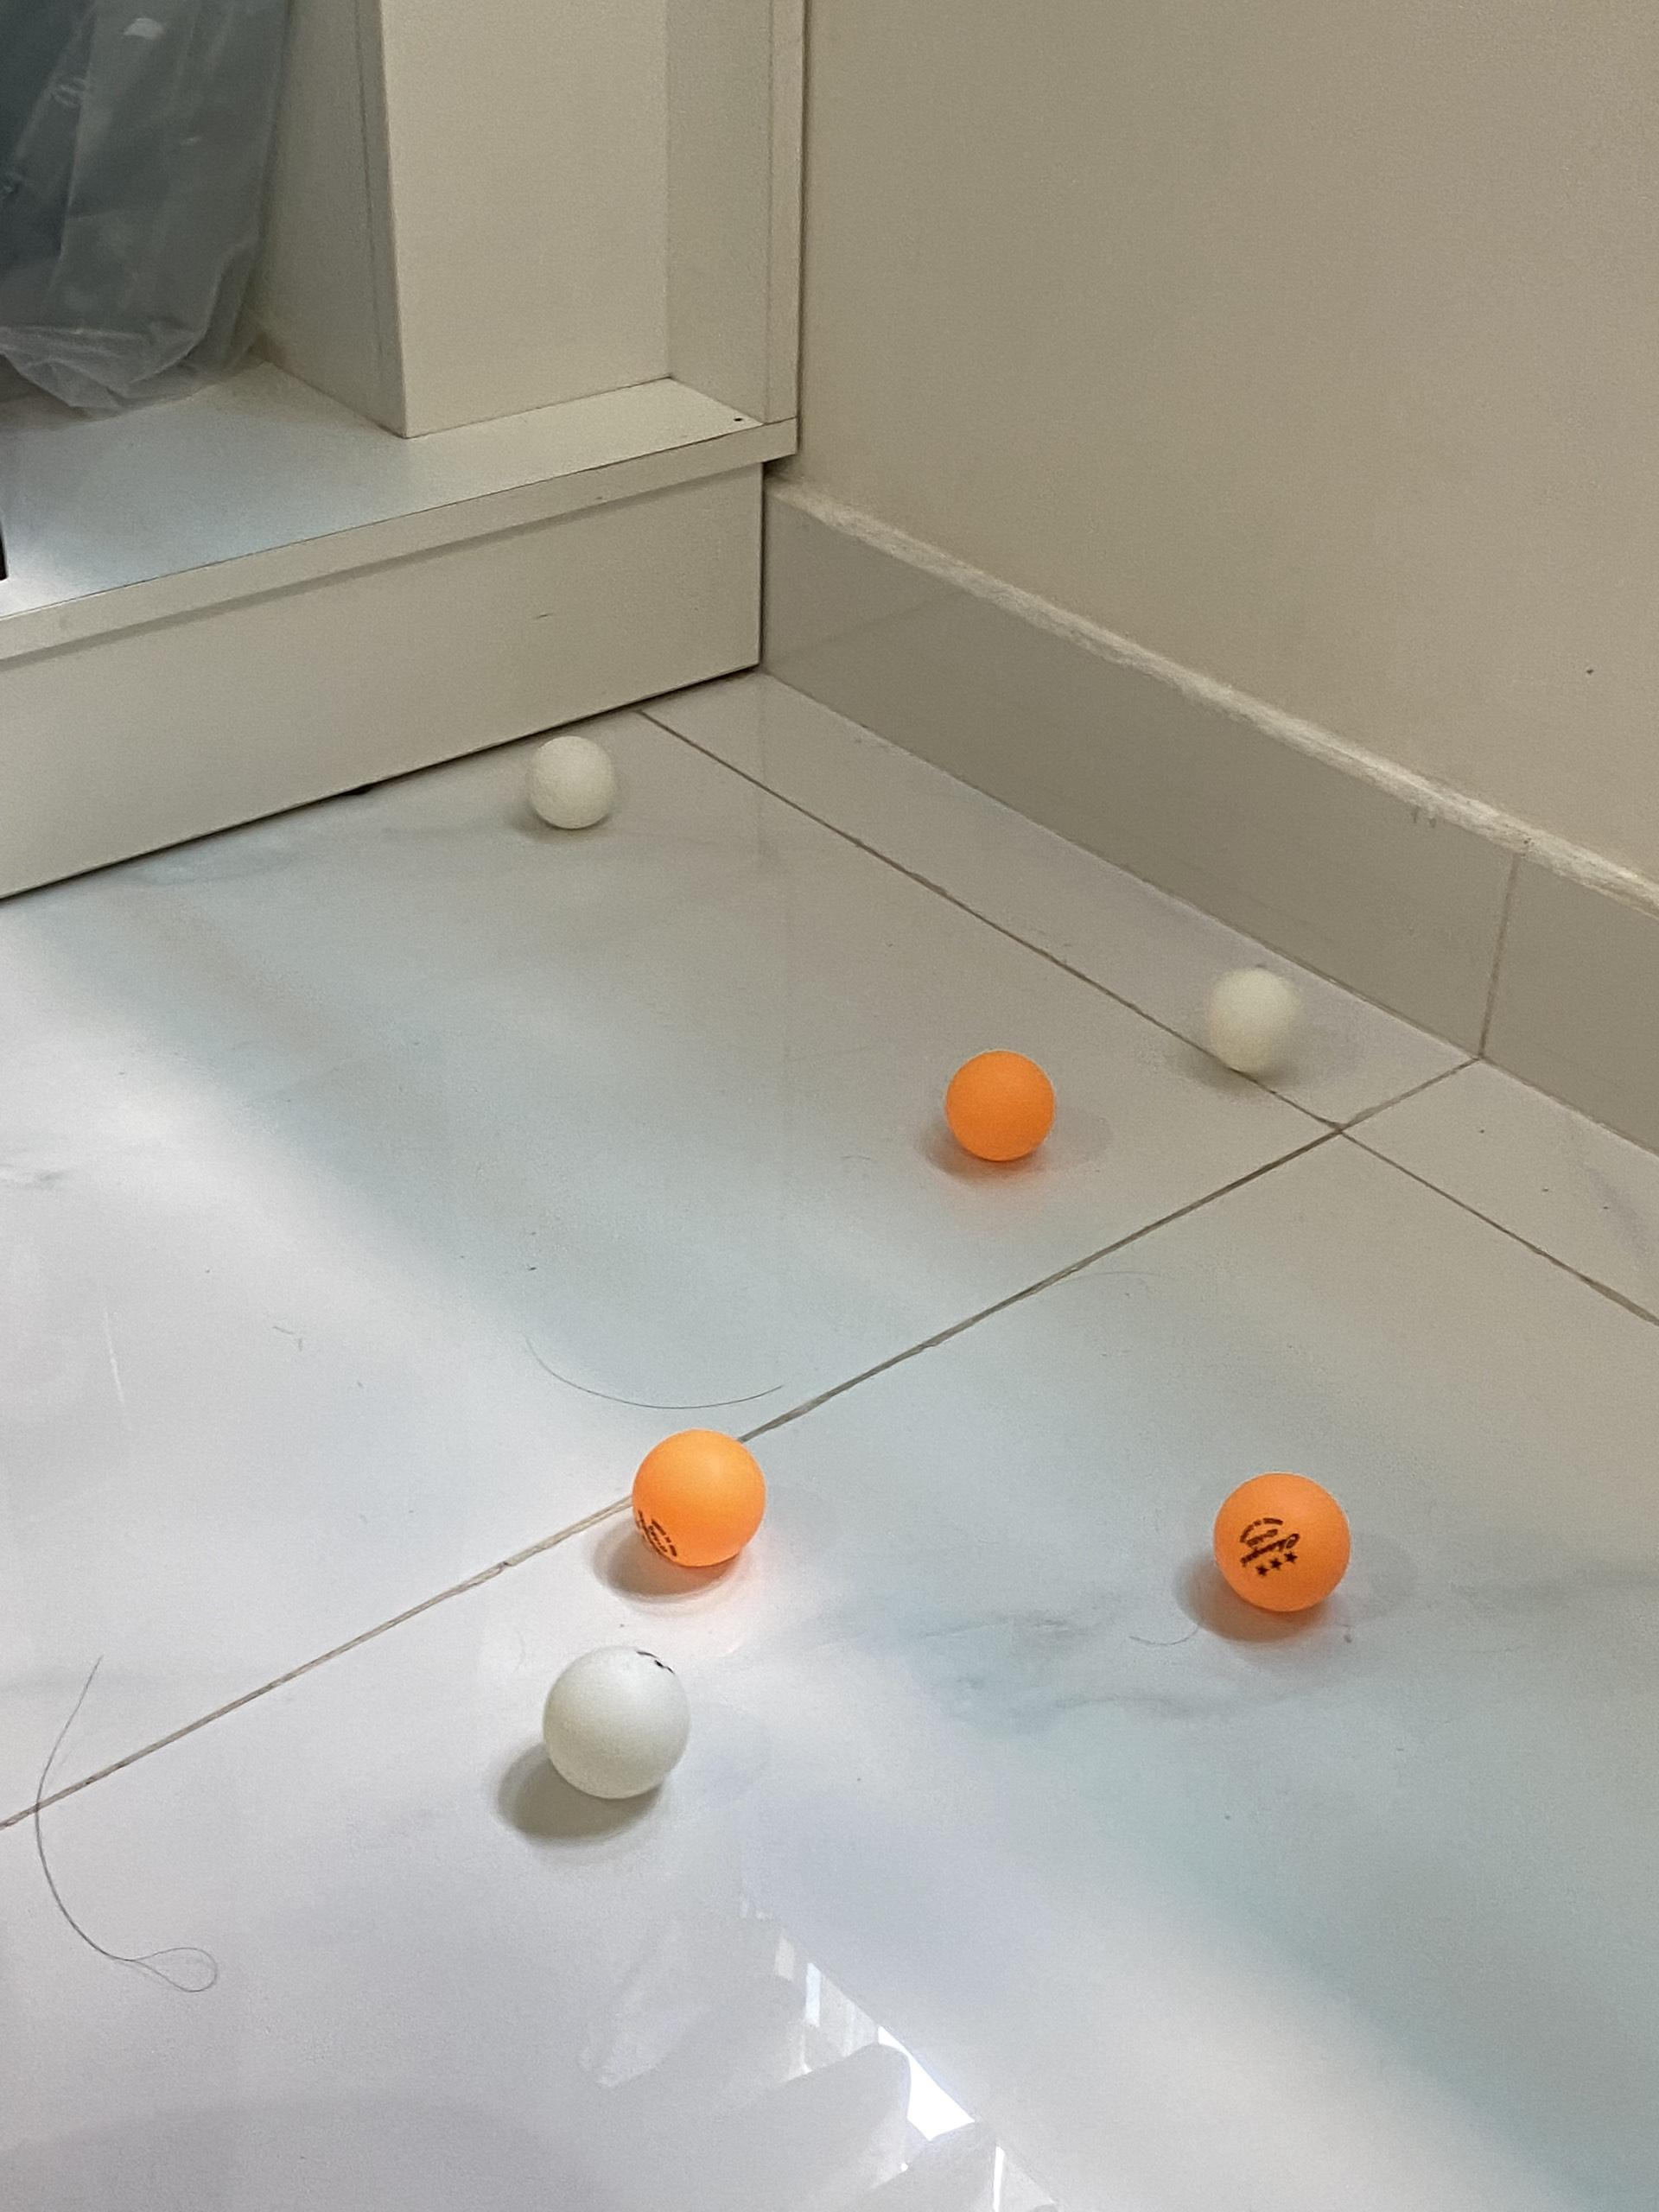oball: (1213, 1468, 1356, 1616), (636, 1423, 772, 1561), (948, 1049, 1063, 1160)
